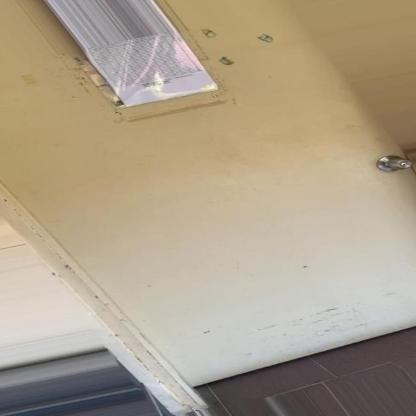door: (3, 0, 416, 387)
